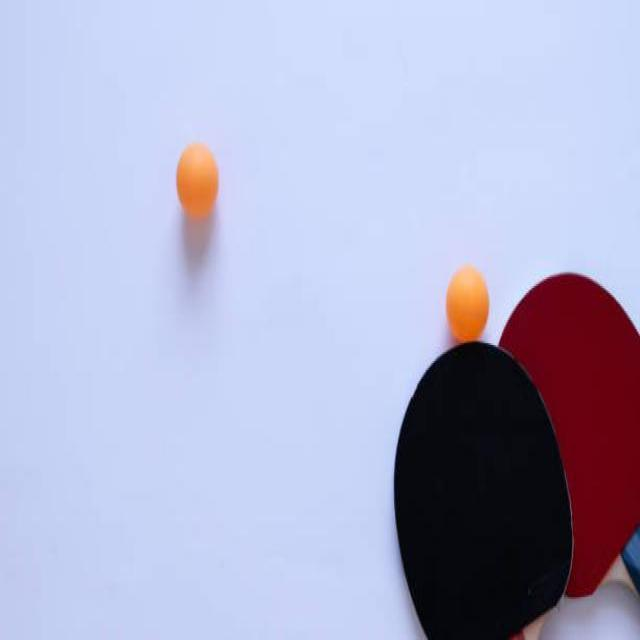oball: (448, 265, 490, 339), (178, 144, 218, 216)
